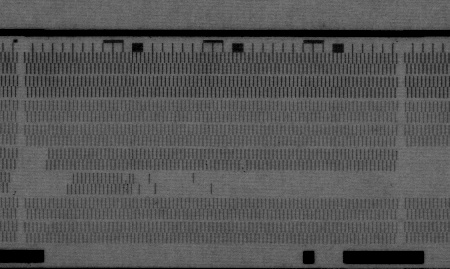Broken hole: (131, 171, 450, 199), (402, 147, 450, 200), (6, 171, 73, 196), (20, 148, 50, 173)
Oblique printing: (119, 171, 132, 188), (239, 160, 249, 174)
